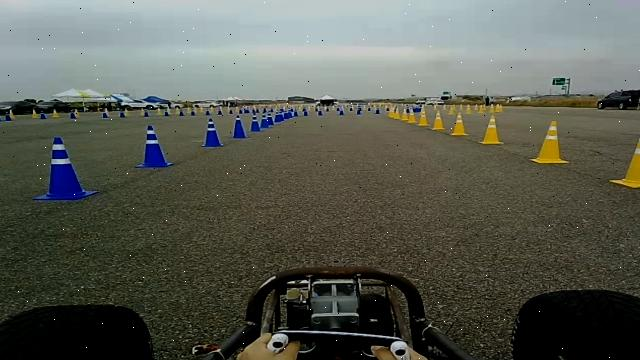blue cone: (32, 136, 99, 201), (134, 125, 174, 168), (201, 117, 223, 147), (229, 115, 248, 139), (248, 115, 262, 132)
yellow cone: (609, 128, 640, 188), (528, 120, 570, 164), (625, 128, 640, 181), (478, 114, 504, 144), (450, 112, 468, 136), (430, 111, 446, 130), (416, 110, 428, 126), (546, 121, 557, 138), (635, 128, 640, 149), (407, 112, 416, 123), (400, 109, 408, 120), (388, 110, 395, 118)
